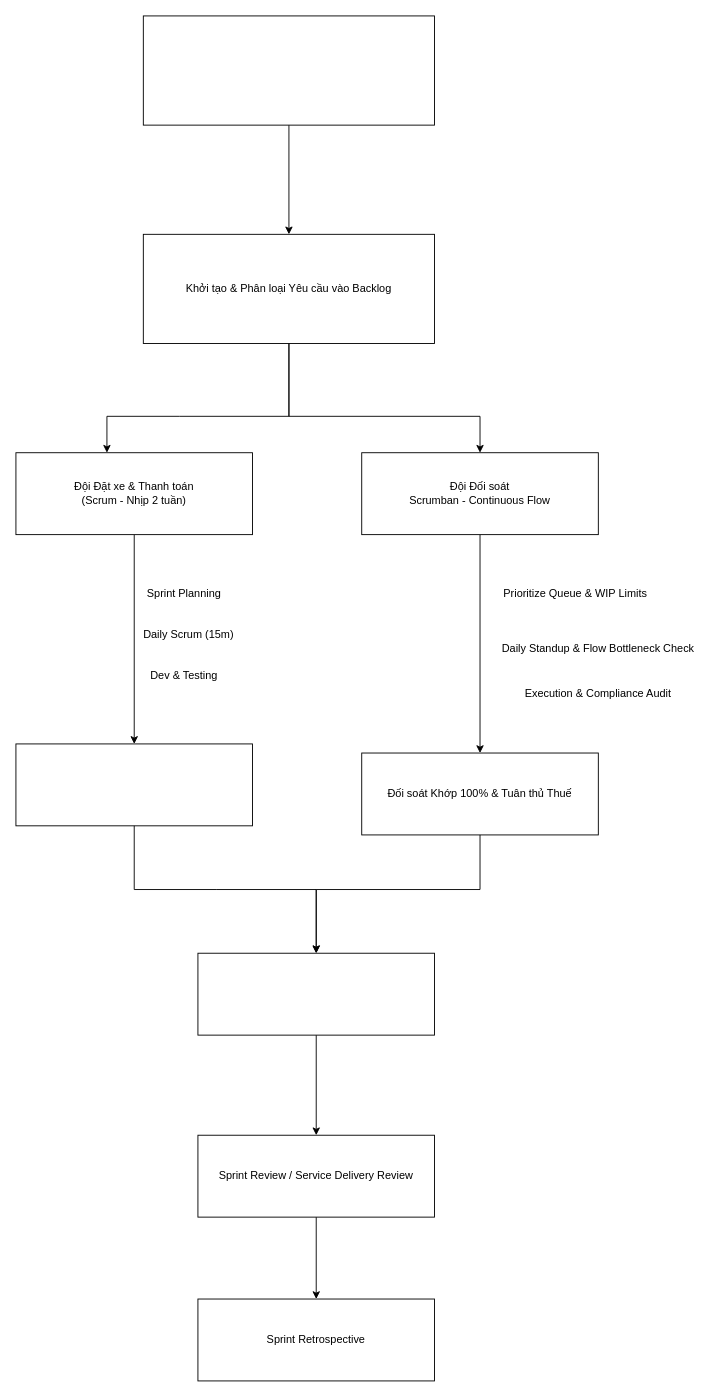
Image size: 714x1397. Some labels were removed from this diagram. Each missing label, with the centre of its shape:
"Chấp nhận theo DoD" belongs at [134,784].
"Nhu cầu Người dùng / Quy định Pháp lý Thuế" belongs at [288,70].
"Phát hành Sản phẩm / Báo cáo Vận hành" belongs at [316,993].
